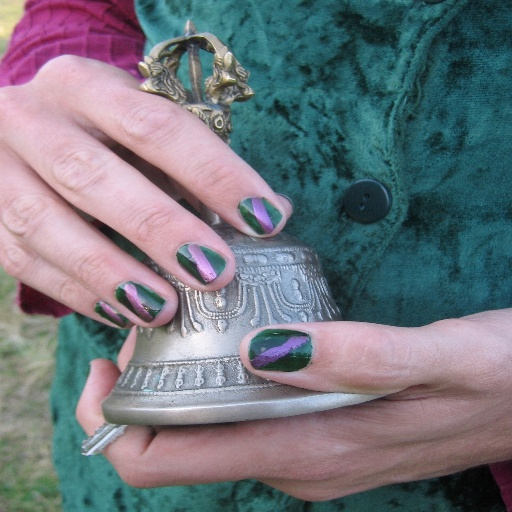hand: (73, 304, 511, 501), (0, 51, 287, 329)
